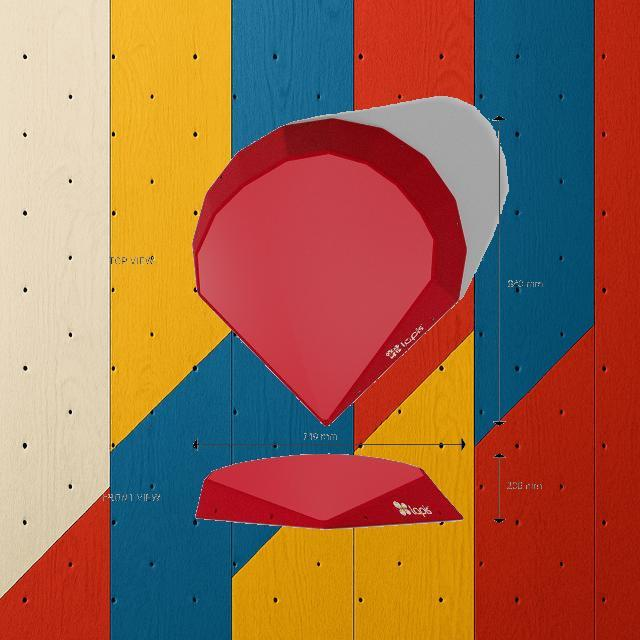Volume: (190, 117, 468, 427), (194, 452, 463, 530)
